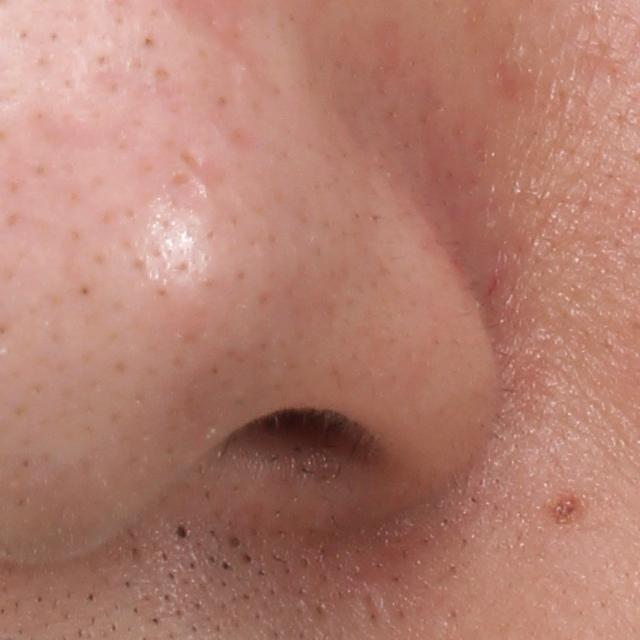atrophic_scar: (177, 146, 234, 197)
nevus: (546, 491, 593, 536)
